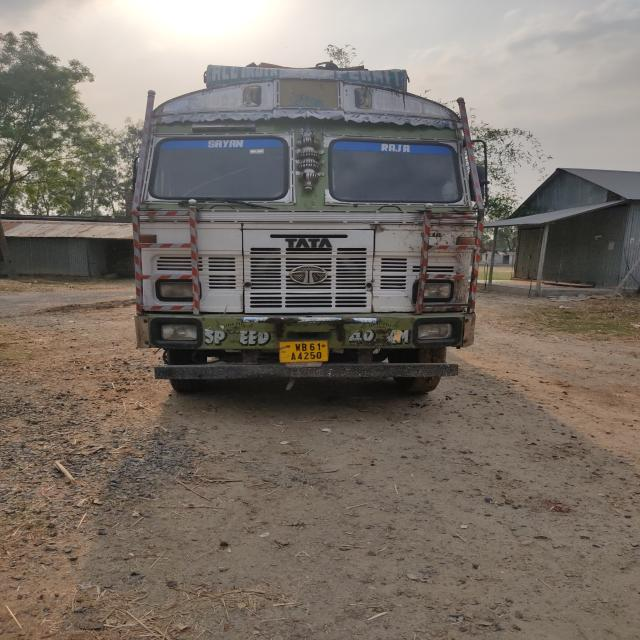truck: (127, 64, 494, 384)
